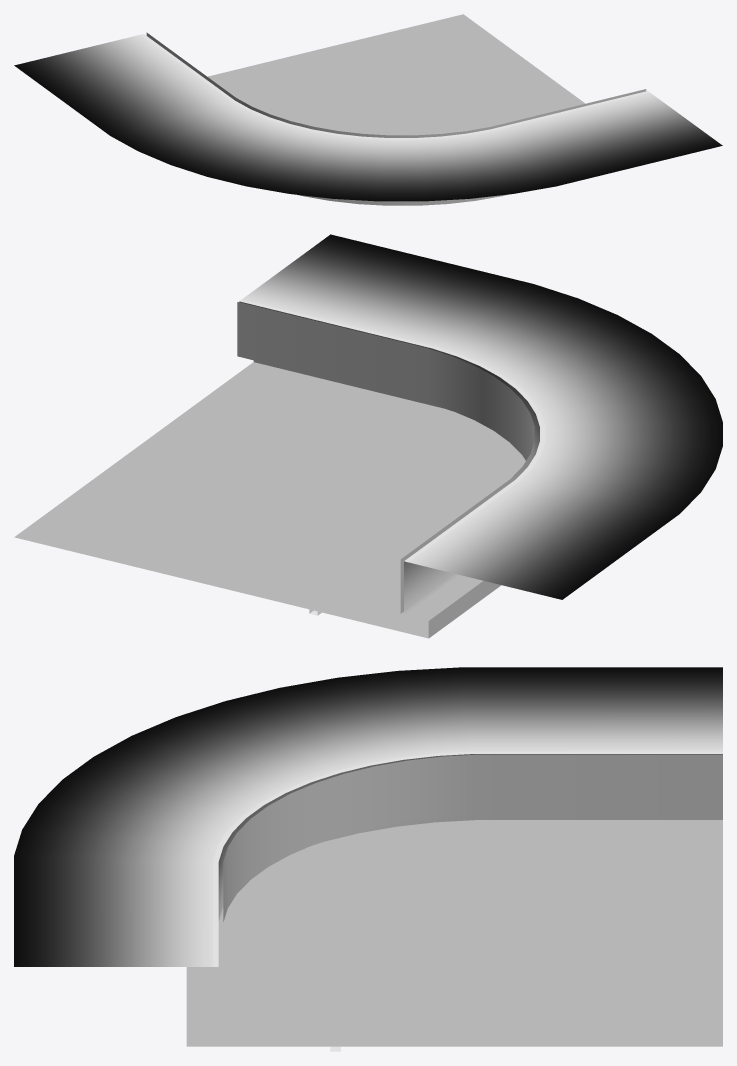
The model's file is Ceiling03_Angle1.FBX.
3 renders of one model, top to bottom at view 1: azimuth 30°, elevation 25°; view 2: azimuth 150°, elevation 25°; view 3: azimuth 270°, elevation 25°, orthographic. The views are drawn at different scales.
Parts seen in each view (by area): view 1: Backlight, Ceiling; view 2: Ceiling, Backlight; view 3: Ceiling, Backlight.
Boxes of the visible parts, x1=… form: Backlight: x1=14, y1=34, x2=722, y2=201; Ceiling: x1=146, y1=14, x2=646, y2=205; Ceiling: x1=14, y1=302, x2=534, y2=638; Backlight: x1=239, y1=234, x2=722, y2=614; Ceiling: x1=186, y1=754, x2=722, y2=1046; Backlight: x1=14, y1=667, x2=722, y2=966.
Bounding box in the file's own units: 199 × 26.5 × 199.
